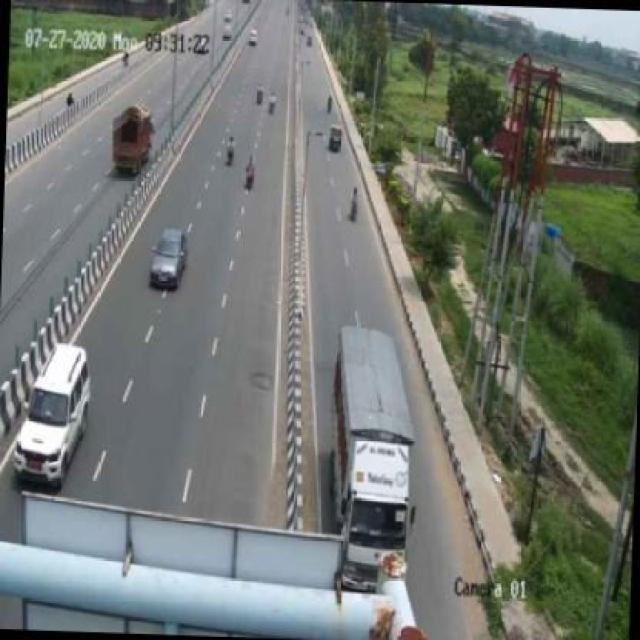car: (5, 337, 97, 494), (149, 230, 189, 296), (326, 120, 346, 155)
